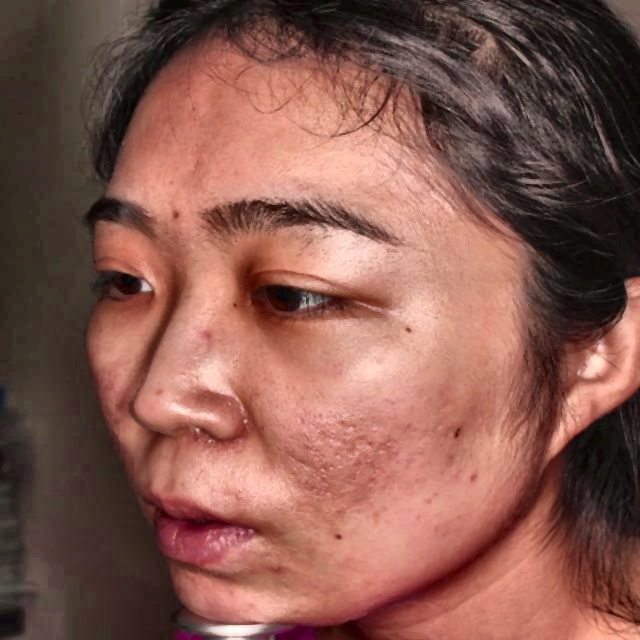comedone: (199, 317, 217, 347)
